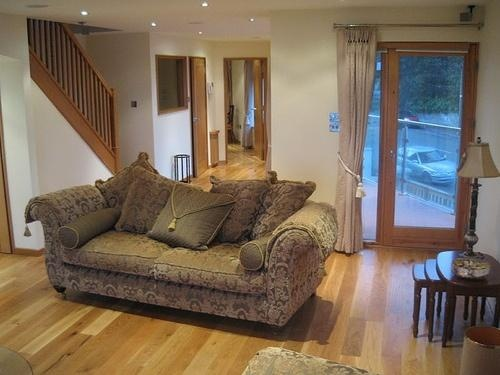car: (398, 142, 459, 185)
sofa: (22, 163, 334, 333)
